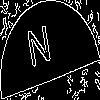N: (25, 24, 54, 77)
